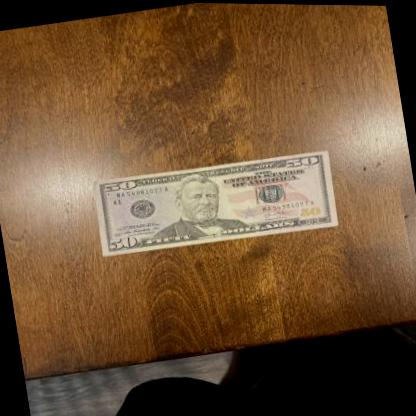fifty-front: (92, 144, 340, 261)
